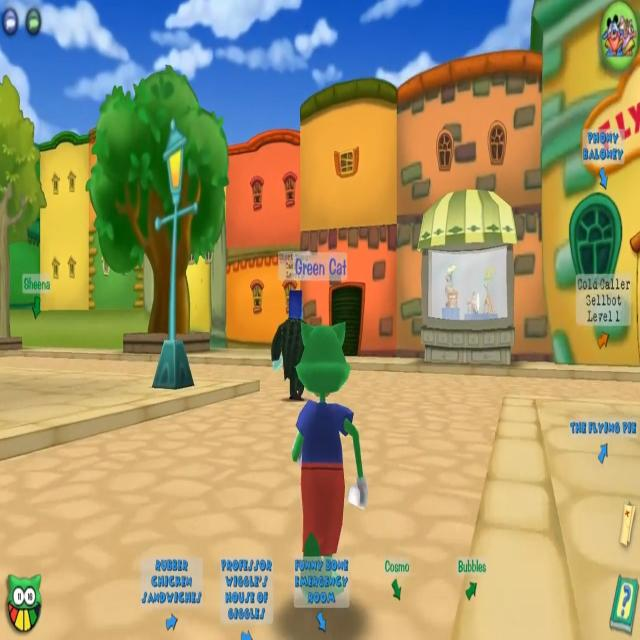shortchange: (272, 263, 305, 399)
